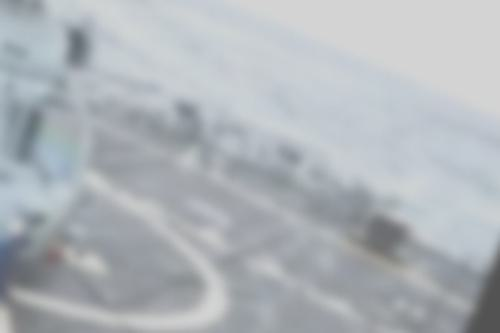Apron: (1, 168, 228, 319)
